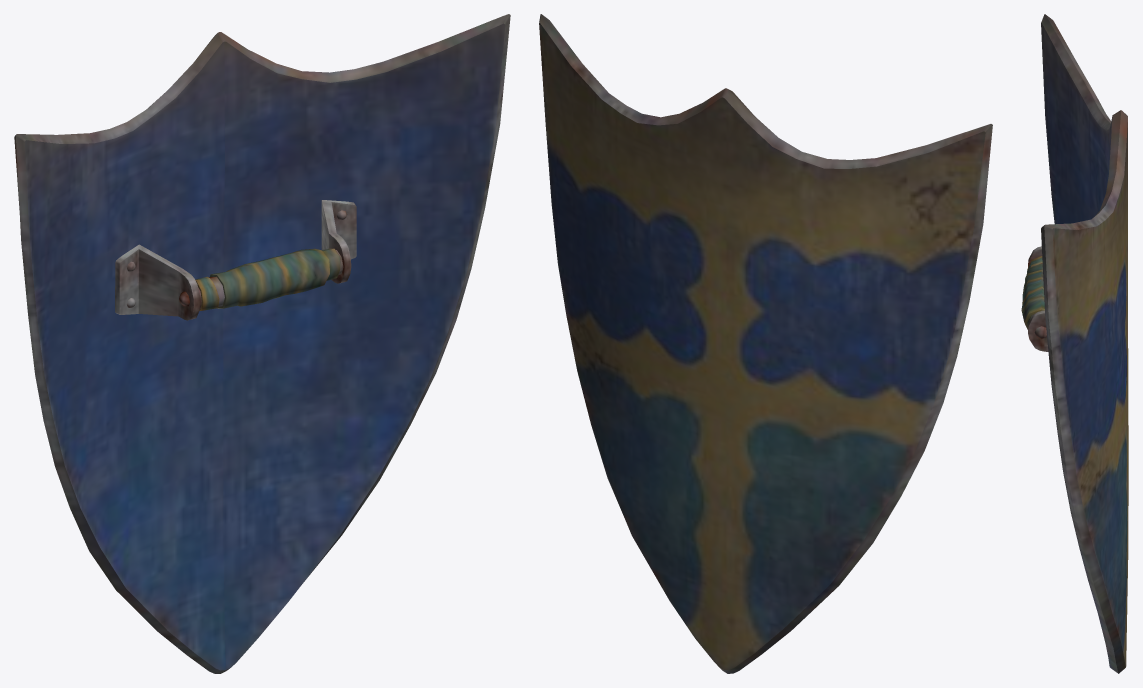
File: weapon-wp_a_2030.glb
The picture shows the model from 3 angles, left to right: view 1: azimuth 30°, elevation 25°; view 2: azimuth 150°, elevation 25°; view 3: azimuth 270°, elevation 25°; orthographic projection. The views are drawn at different scales.
Visible parts, largest first — view 1: wp_a_2030_mesh; view 2: wp_a_2030_mesh; view 3: wp_a_2030_mesh.
Boxes of the visible parts, <box> form: wp_a_2030_mesh: <box>14,14,510,673</box>; wp_a_2030_mesh: <box>539,14,992,673</box>; wp_a_2030_mesh: <box>1021,14,1128,673</box>.
Bounding box in the file's own units: 0.5604 × 0.694 × 0.1197.
1 material, 1 textured.
